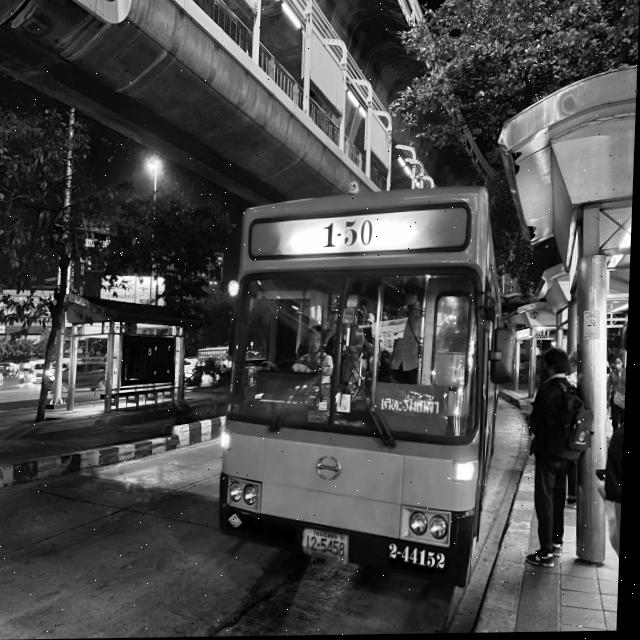BMTA-bus: (218, 189, 504, 595)
Bus-Line-Number: (317, 220, 382, 254)
Destination-Sign-Normal: (377, 383, 451, 436)
